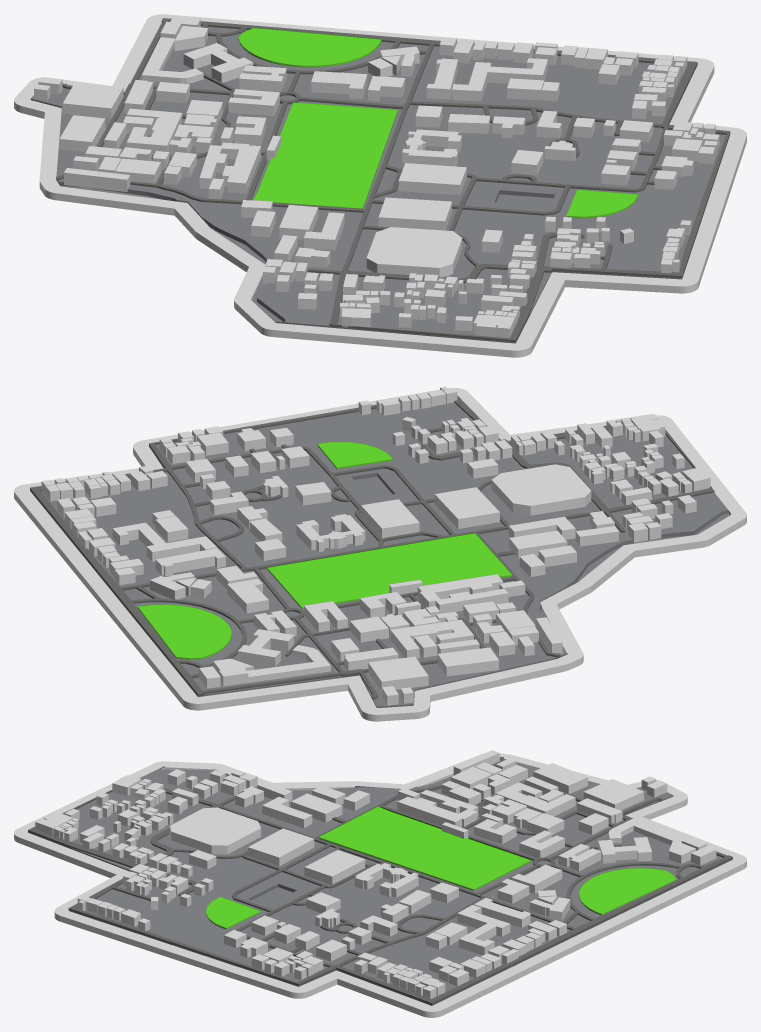
The model's file is CentralMap.glb.
3 renders of one model, top to bottom at view 1: azimuth 30°, elevation 25°; view 2: azimuth 150°, elevation 25°; view 3: azimuth 270°, elevation 25°, orthographic. The views are drawn at different scales.
Parts seen in each view (by area): view 1: Map_Floor, Building_Background, Map_Outline, Map_Roads, Field_BigField, Building_UniversityGym, Field_HalfMoon, Building_Elementary, Building_JuniorHigh, Building_Engineering, Building_RoseMemorial, Building_Library (+21 smaller); view 2: Map_Floor, Building_Background, Map_Outline, Map_Roads, Field_BigField, Building_UniversityGym, Field_HalfMoon, Building_Elementary, Building_JuniorHigh, Building_Engineering, Building_RoseMemorial, Building_MaryThomas (+17 smaller); view 3: Map_Floor, Building_Background, Map_Outline, Map_Roads, Field_BigField, Building_UniversityGym, Field_HalfMoon, Building_Elementary, Building_Engineering, Building_JuniorHigh, Building_RoseMemorial, Building_LDT (+19 smaller).
Boxes of the visible parts, x1,y1,x2,y2 form: Map_Floor: [30, 23, 730, 343]; Building_Background: [34, 16, 719, 338]; Map_Outline: [14, 14, 746, 357]; Map_Roads: [56, 18, 730, 341]; Field_BigField: [253, 102, 397, 209]; Building_UniversityGym: [366, 227, 462, 277]; Field_HalfMoon: [238, 28, 381, 67]; Building_Elementary: [426, 58, 547, 101]; Building_JuniorHigh: [104, 108, 182, 154]; Building_Engineering: [199, 142, 260, 193]; Building_RoseMemorial: [378, 197, 451, 230]; Building_Library: [398, 163, 466, 195]; Map_Floor: [30, 402, 730, 707]; Building_Background: [41, 386, 710, 705]; Map_Outline: [14, 387, 746, 721]; Map_Roads: [30, 395, 714, 699]; Field_BigField: [267, 533, 512, 609]; Building_UniversityGym: [491, 464, 591, 515]; Field_HalfMoon: [138, 605, 231, 659]; Building_Elementary: [112, 522, 225, 576]; Building_JuniorHigh: [390, 619, 479, 658]; Building_Engineering: [417, 574, 508, 613]; Building_RoseMemorial: [434, 487, 499, 528]; Building_MaryThomas: [219, 645, 330, 686]; Map_Floor: [28, 758, 732, 1005]; Building_Background: [35, 750, 716, 998]; Map_Outline: [14, 753, 746, 1017]; Map_Roads: [28, 756, 732, 1005]; Field_BigField: [319, 806, 530, 890]; Building_UniversityGym: [169, 807, 260, 854]; Field_HalfMoon: [579, 868, 676, 915]; Building_Elementary: [457, 898, 530, 955]; Building_Engineering: [397, 790, 478, 827]; Building_JuniorHigh: [495, 776, 575, 816]; Building_RoseMemorial: [248, 828, 314, 866]; Building_LDT: [354, 863, 418, 897].
Size of the model in its own units: 39.71 by 1.24 by 47.42.
